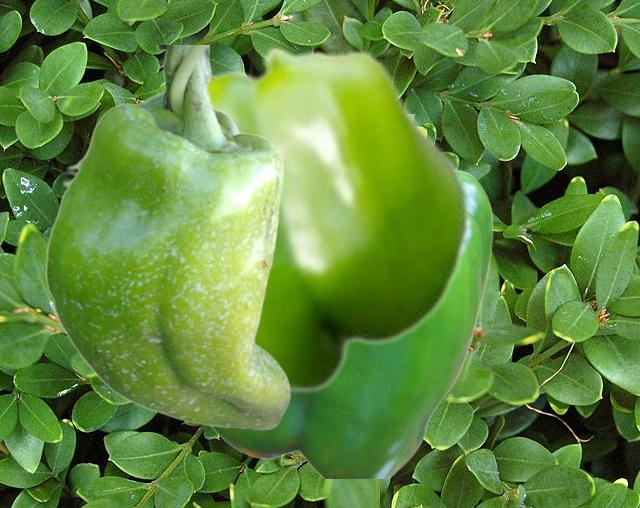bell_pepper: (159, 45, 470, 393), (209, 114, 492, 477), (44, 45, 290, 429)
